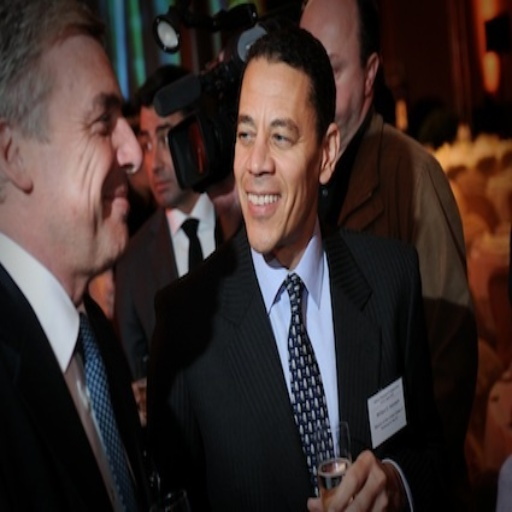hand: (322, 446, 409, 512), (207, 173, 242, 231)
